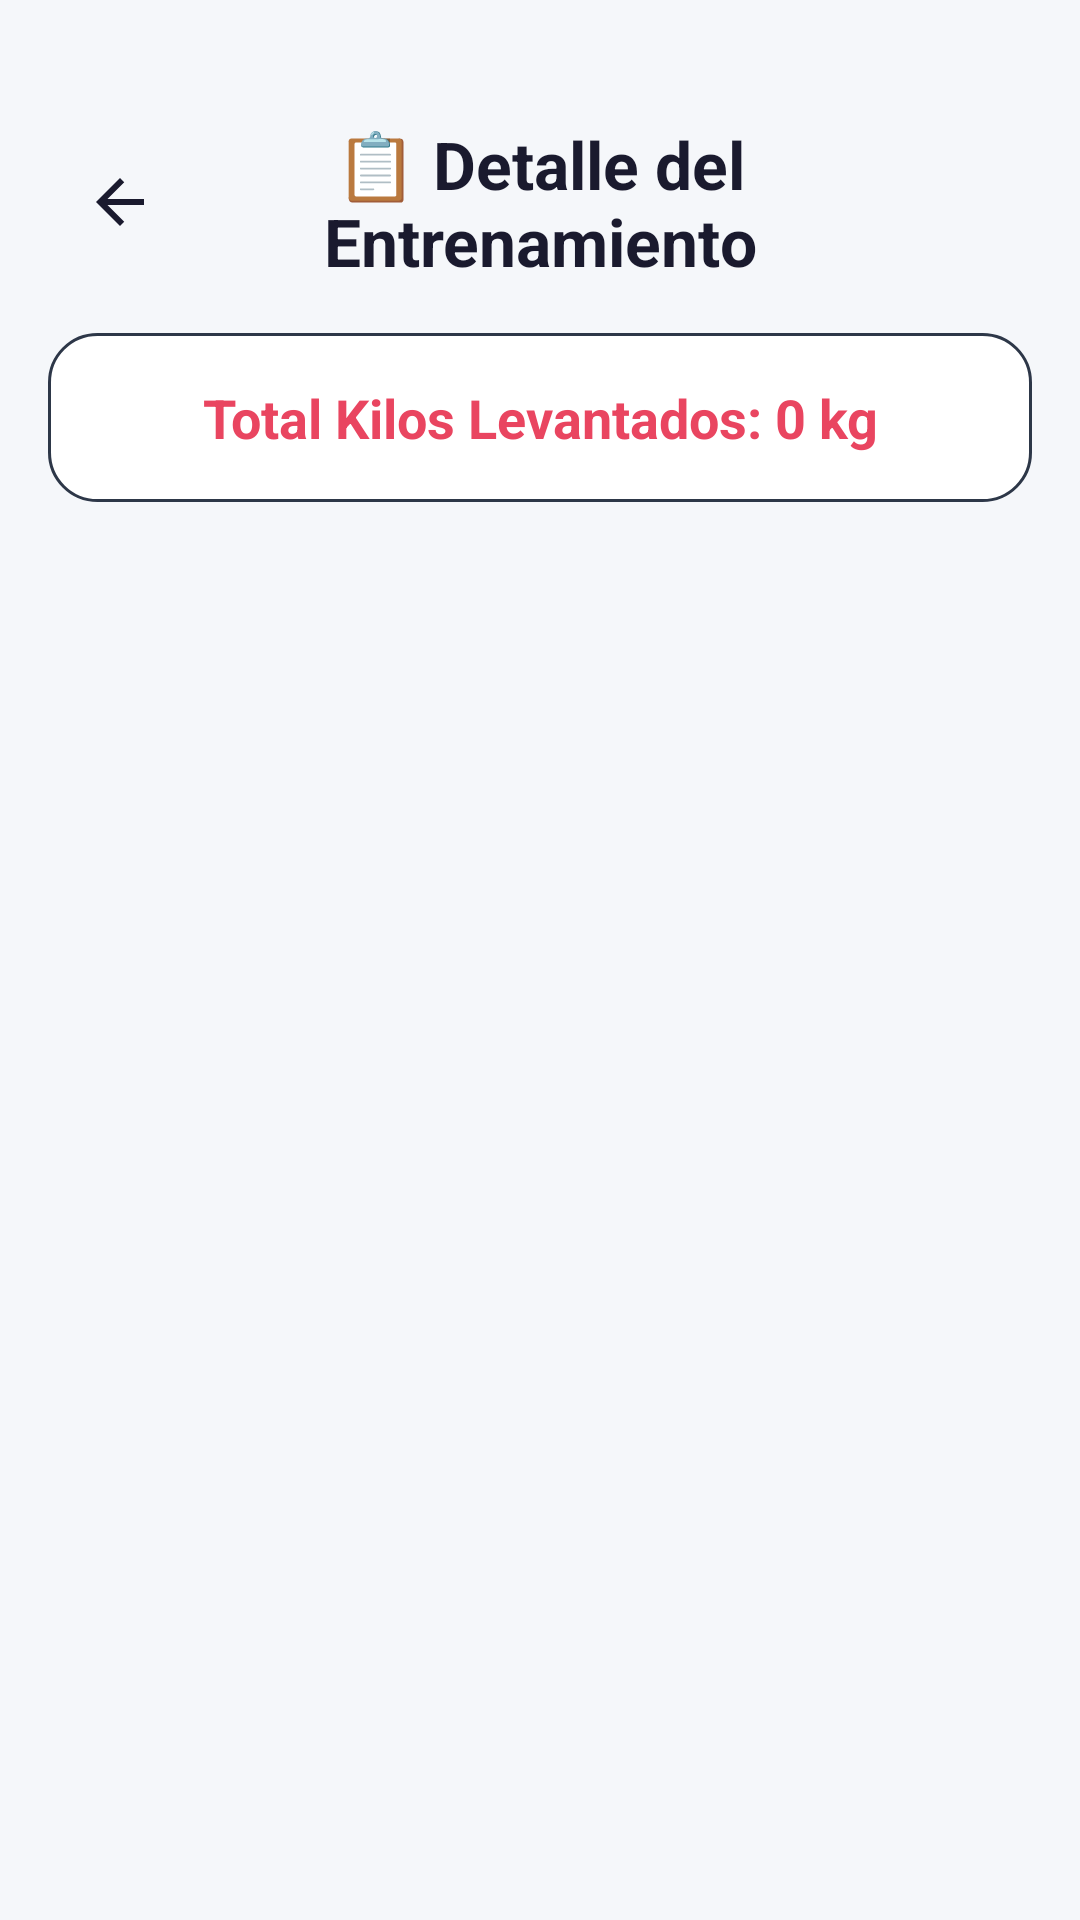

Icon click points for this 1080 × 1920 phone screenshot, format point (x, y):
flecha atras: point (120, 202)
